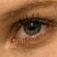eye: (24, 22, 41, 36)
